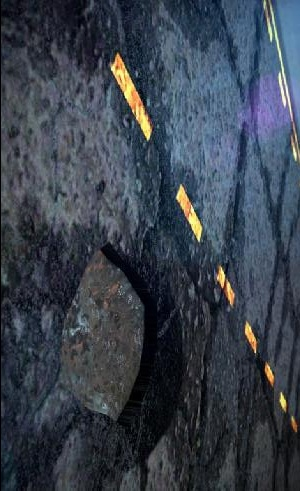pothole: (55, 240, 158, 428)
